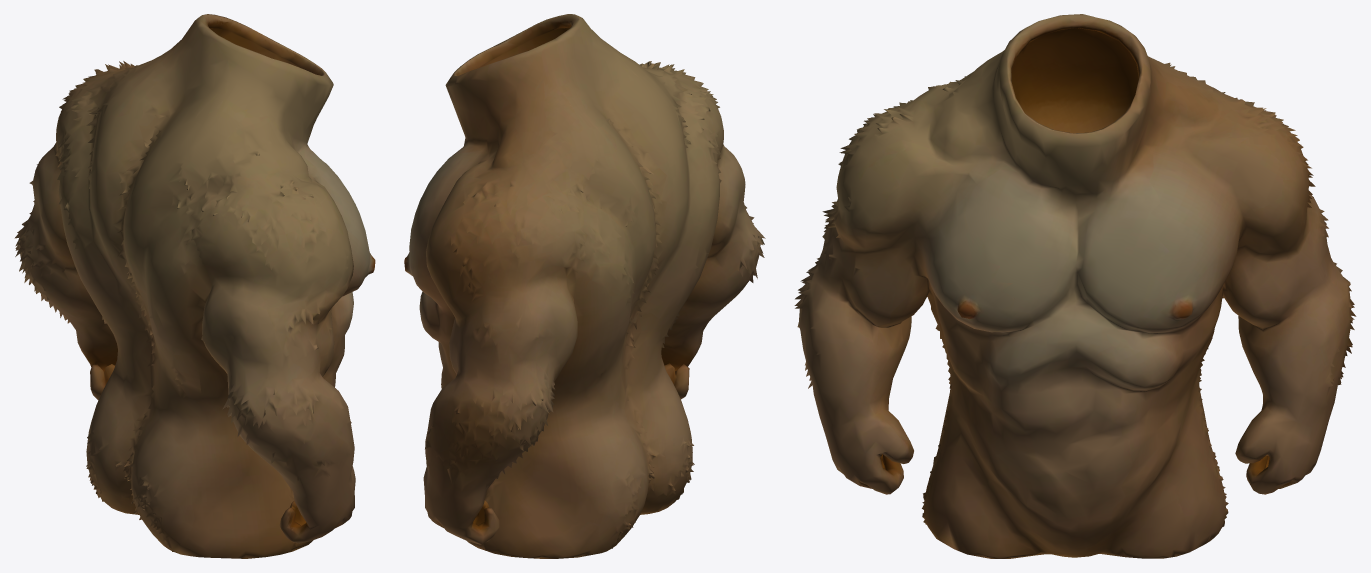
Rendered from body.glb.
3 renders of one model, left to right at view 1: azimuth 30°, elevation 25°; view 2: azimuth 150°, elevation 25°; view 3: azimuth 270°, elevation 25°, orthographic. The views are drawn at different scales.
Visible parts, largest first — view 1: tripo_node_ab4076ad-1ca8-4716-b178-ded89e3cab3f; view 2: tripo_node_ab4076ad-1ca8-4716-b178-ded89e3cab3f; view 3: tripo_node_ab4076ad-1ca8-4716-b178-ded89e3cab3f.
Part boxes in pixels (x1,y1,x2,y2): tripo_node_ab4076ad-1ca8-4716-b178-ded89e3cab3f: (14, 14, 375, 558); tripo_node_ab4076ad-1ca8-4716-b178-ded89e3cab3f: (404, 14, 765, 558); tripo_node_ab4076ad-1ca8-4716-b178-ded89e3cab3f: (794, 14, 1356, 558).
Size of the model in its own units: 0.4865 by 1 by 0.9932.
Materials: 1 (1 with a texture image).
